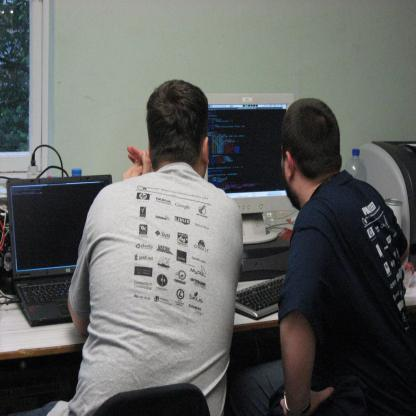board: (7, 174, 112, 326), (344, 148, 366, 182)
